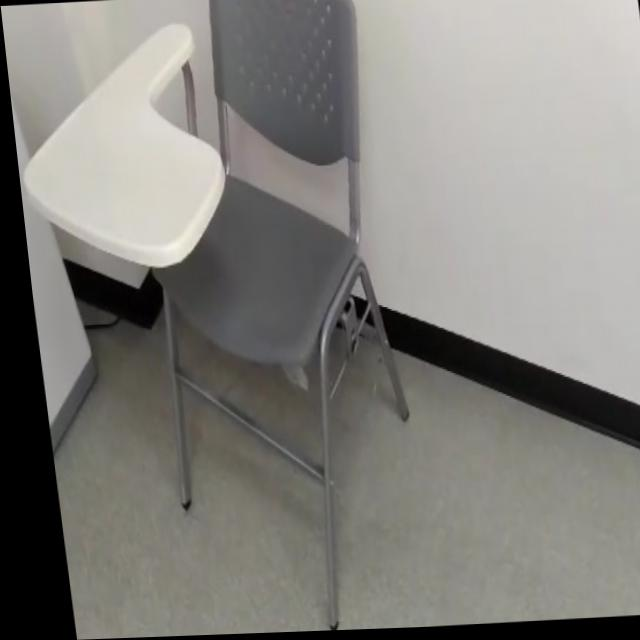chair: (0, 0, 433, 640)
